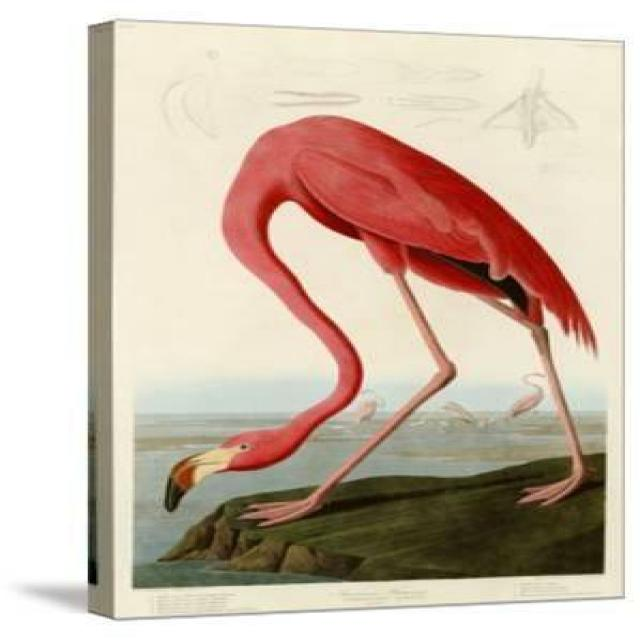flamingo: (178, 115, 593, 525)
